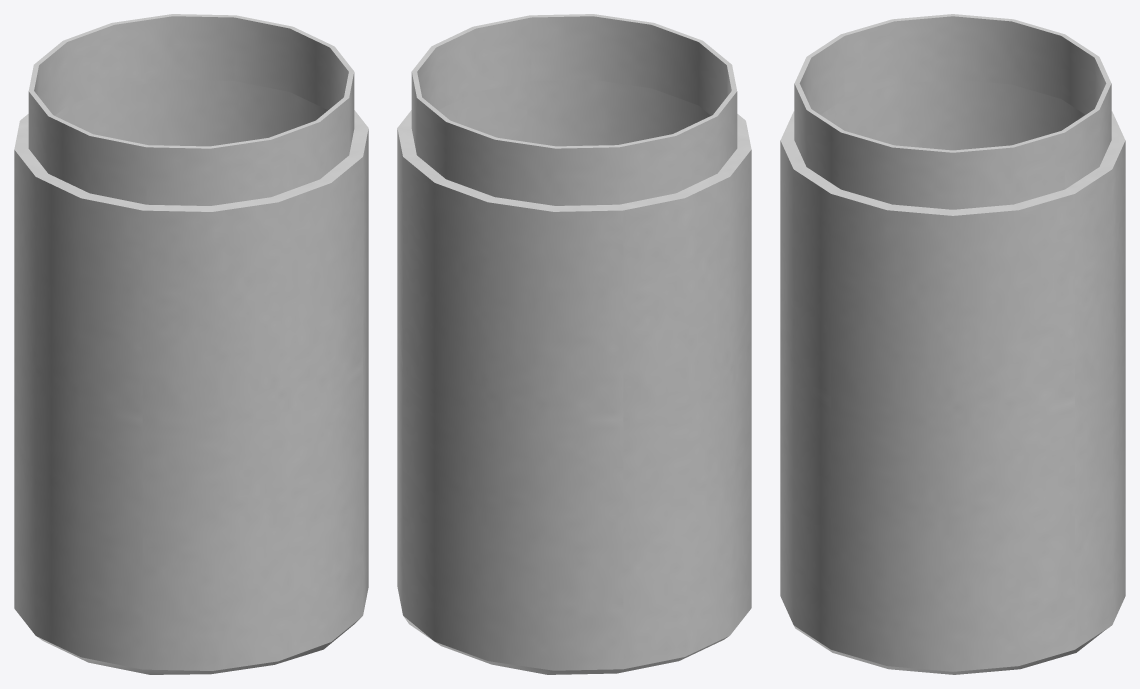
File: SM_四氟内衬.fbx
3 views of the same model, side by side, from view 1: azimuth 30°, elevation 25°; view 2: azimuth 150°, elevation 25°; view 3: azimuth 270°, elevation 25° (orthographic).
Parts seen in each view (by area): view 1: SM_四氟内衬; view 2: SM_四氟内衬; view 3: SM_四氟内衬.
Part boxes in pixels (<box>): SM_四氟内衬: <box>14,14,368,674</box>; SM_四氟内衬: <box>397,14,751,674</box>; SM_四氟内衬: <box>780,14,1125,674</box>.
Bounding box in the file's own units: 0.0801 × 0.1285 × 0.0773.
